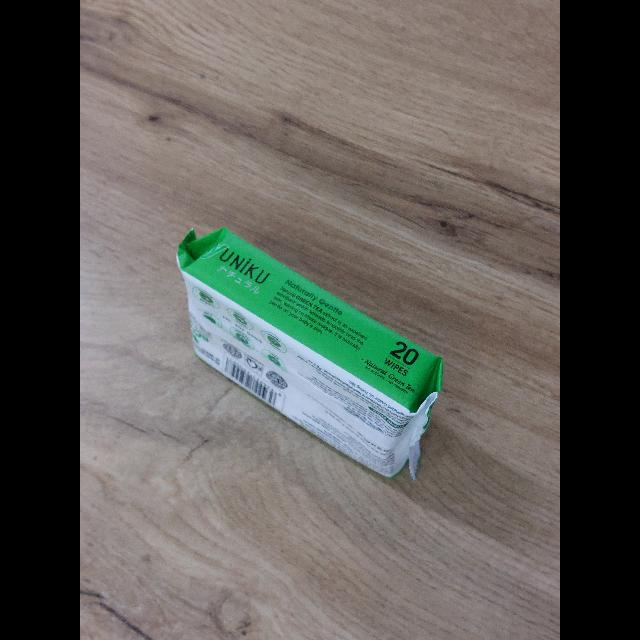khan_giay: (176, 229, 443, 479)
